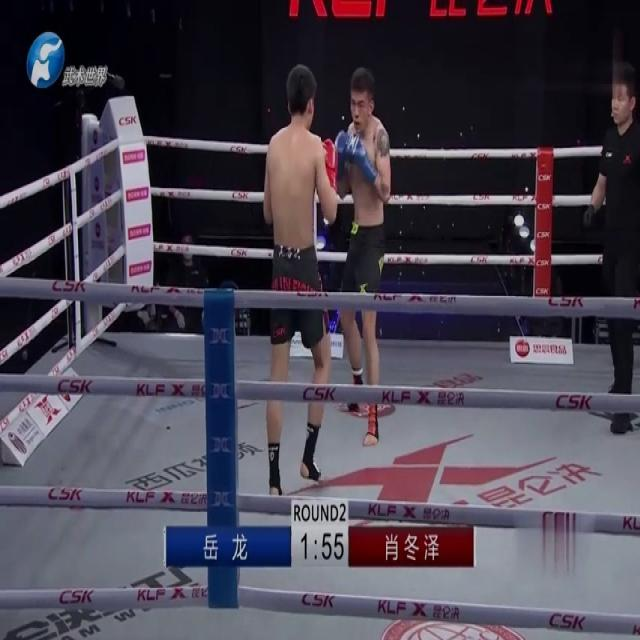fight: (256, 62, 394, 494)
non-fight: (576, 52, 639, 444)
